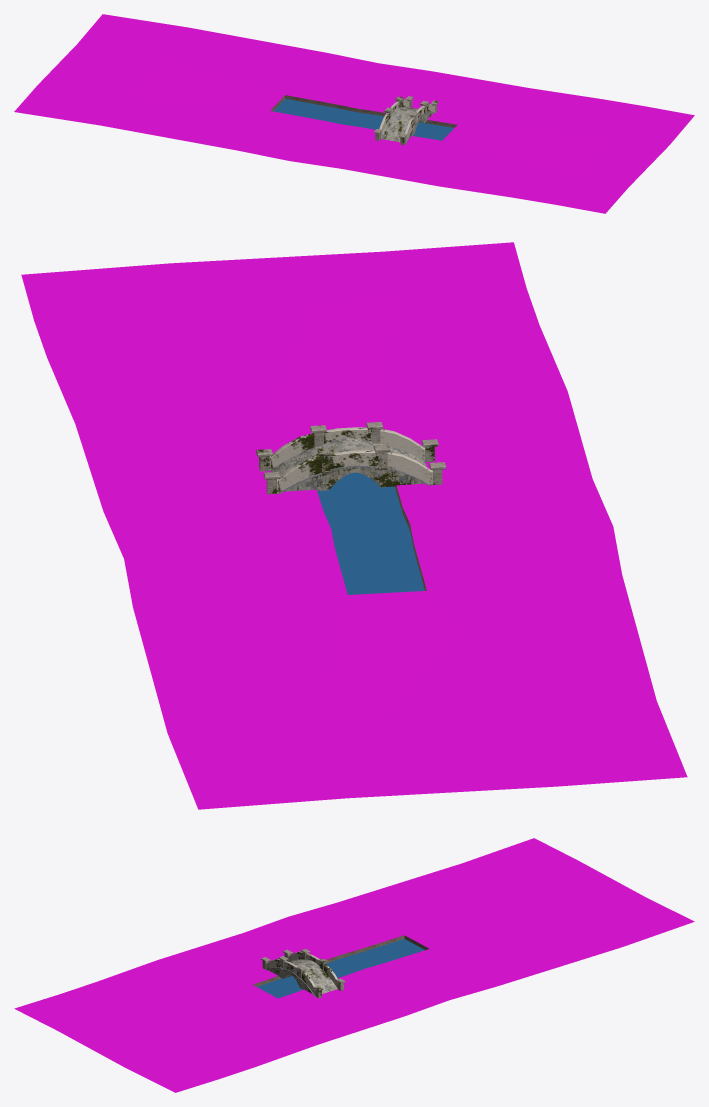
File: via-senato.glb
The picture shows the model from 3 angles, top to bottom: view 1: azimuth 30°, elevation 25°; view 2: azimuth 150°, elevation 25°; view 3: azimuth 270°, elevation 25°; orthographic projection. The views are drawn at different scales.
Visible parts, largest first — view 1: Maschera_Holdout, Water, Stone Road, Acqua_Naviglio; view 2: Maschera_Holdout, Water, Stone Road, Left_guard_rail, Right_guard_rail; view 3: Maschera_Holdout, Water, Stone Road, Acqua_Naviglio, Right_guard_rail.
Boxes of the visible parts, x1,y1,x2,y2 form: Maschera_Holdout: (14, 14, 694, 213); Water: (273, 99, 453, 140); Stone Road: (381, 106, 433, 142); Acqua_Naviglio: (270, 95, 457, 127); Maschera_Holdout: (21, 242, 687, 809); Water: (317, 472, 424, 594); Stone Road: (270, 438, 426, 491); Left_guard_rail: (277, 450, 432, 492); Right_guard_rail: (269, 427, 425, 469); Maschera_Holdout: (14, 838, 694, 1092); Water: (257, 939, 424, 998); Stone Road: (268, 959, 337, 993); Acqua_Naviglio: (253, 935, 429, 986); Right_guard_rail: (266, 959, 315, 995).
Bounding box in the file's own units: 168 × 12.33 × 189.
7 materials, 5 textured.
